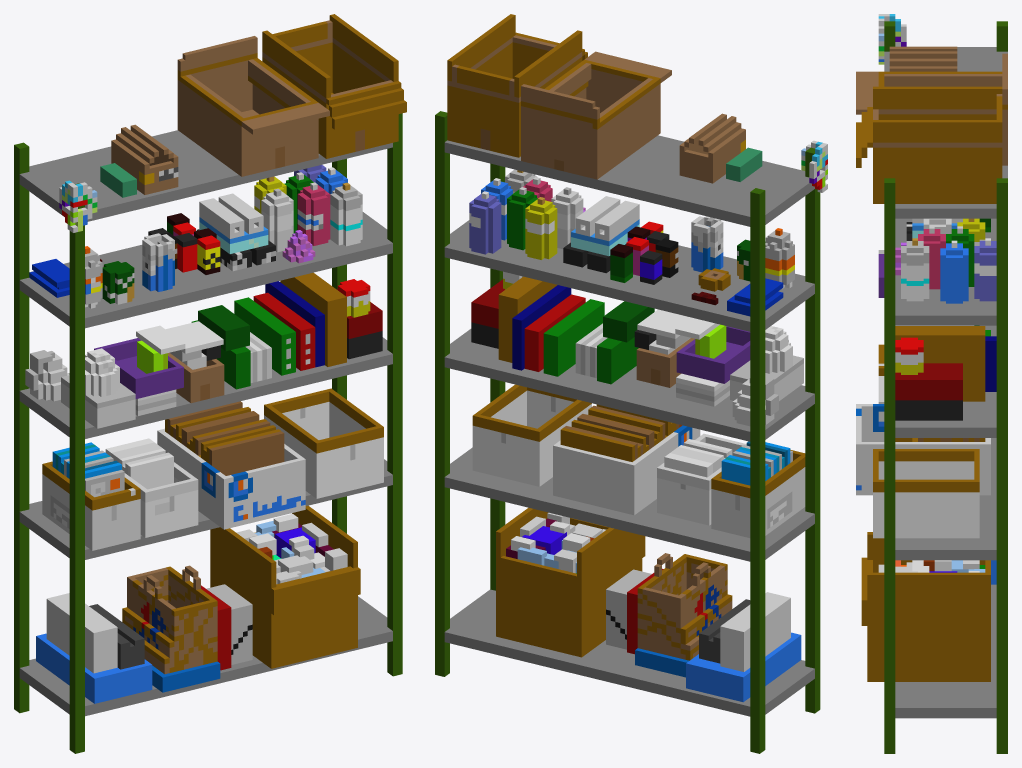
File: voxel salle arts plastiques.obj
3 views of the same model, side by side, from view 1: azimuth 30°, elevation 25°; view 2: azimuth 150°, elevation 25°; view 3: azimuth 270°, elevation 25° (orthographic). The views are drawn at different scales.
Bounding box in the file's own units: 69 × 123 × 27.
Materials: 1 (1 with a texture image).
